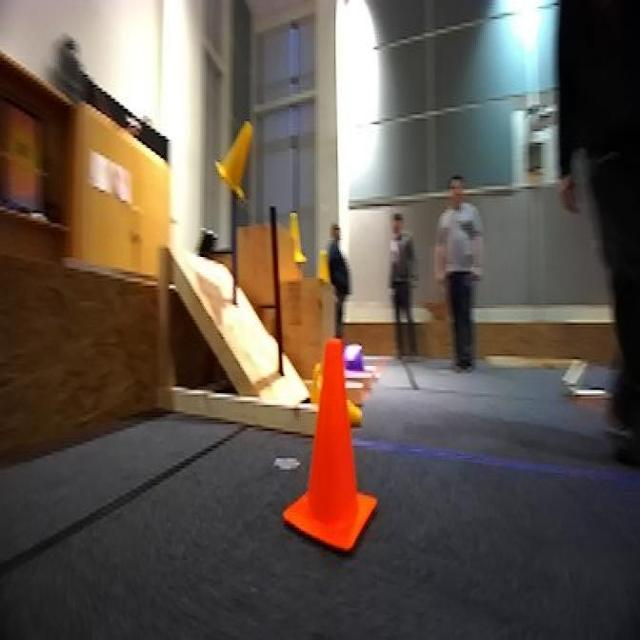frc_cone: (208, 100, 272, 204), (282, 209, 305, 269), (314, 242, 339, 286), (307, 362, 322, 403)
frc_cube: (344, 339, 368, 369)
